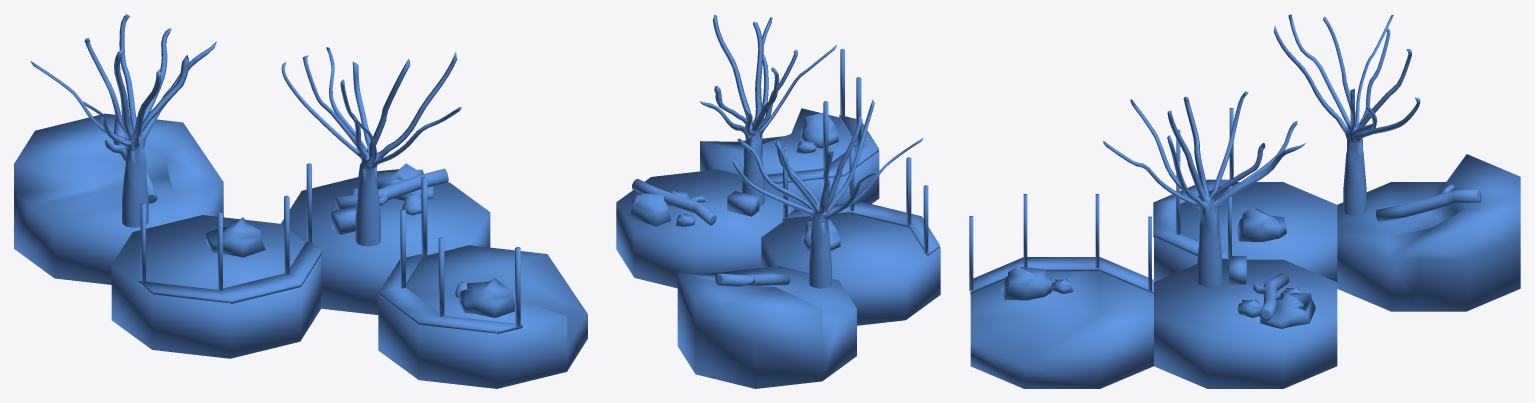
The model's file is Zoo_LionEnclosure.fbx.
The picture shows the model from 3 angles, left to right: view 1: azimuth 30°, elevation 25°; view 2: azimuth 150°, elevation 25°; view 3: azimuth 270°, elevation 25°; orthographic projection. The views are drawn at different scales.
Visible parts, largest first — view 1: Zoo_LionEnclosure; view 2: Zoo_LionEnclosure; view 3: Zoo_LionEnclosure.
Boxes of the visible parts, box(x1,y1,x2,y2) form: Zoo_LionEnclosure: box(14, 14, 587, 388); Zoo_LionEnclosure: box(616, 14, 940, 388); Zoo_LionEnclosure: box(969, 14, 1520, 388).
Size of the model in its own units: 1351 by 881 by 1893.
